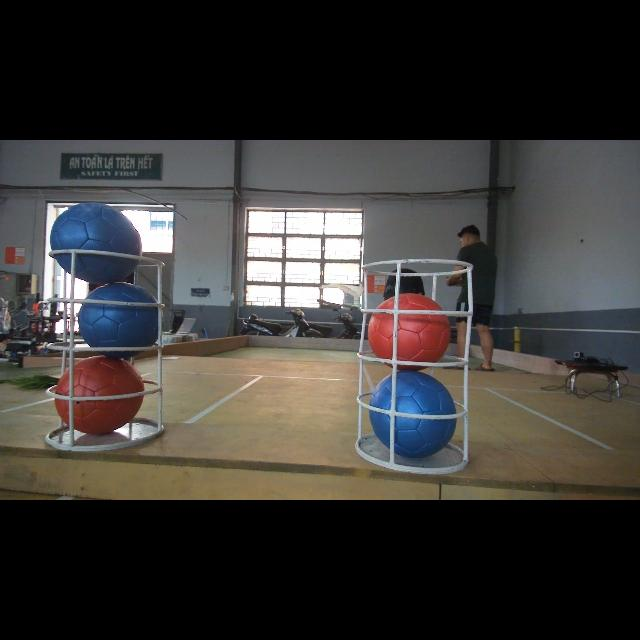B: (368, 371, 458, 459), (48, 203, 144, 283), (77, 281, 159, 361)
R: (58, 352, 140, 436), (369, 293, 449, 371)
